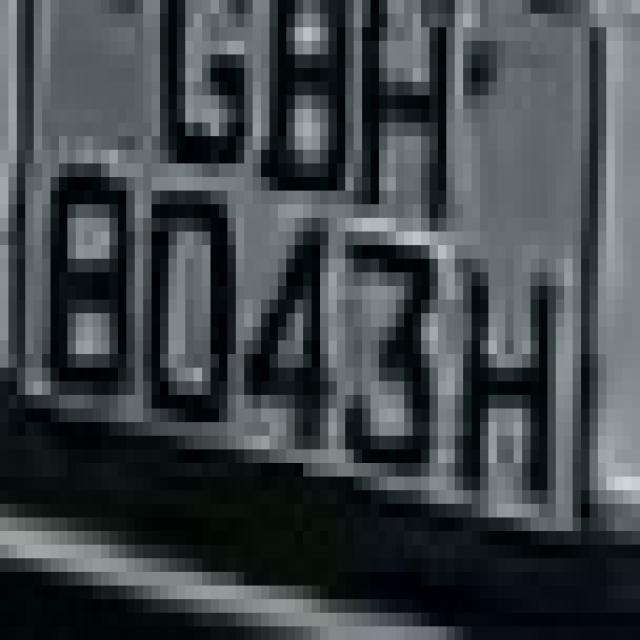0: (135, 177, 244, 463)
3: (337, 218, 446, 531)
4: (219, 177, 337, 477)
8: (42, 122, 143, 450)
B: (244, 13, 362, 232)
G: (143, 13, 244, 218)
H: (430, 218, 564, 504), (337, 14, 480, 245)
